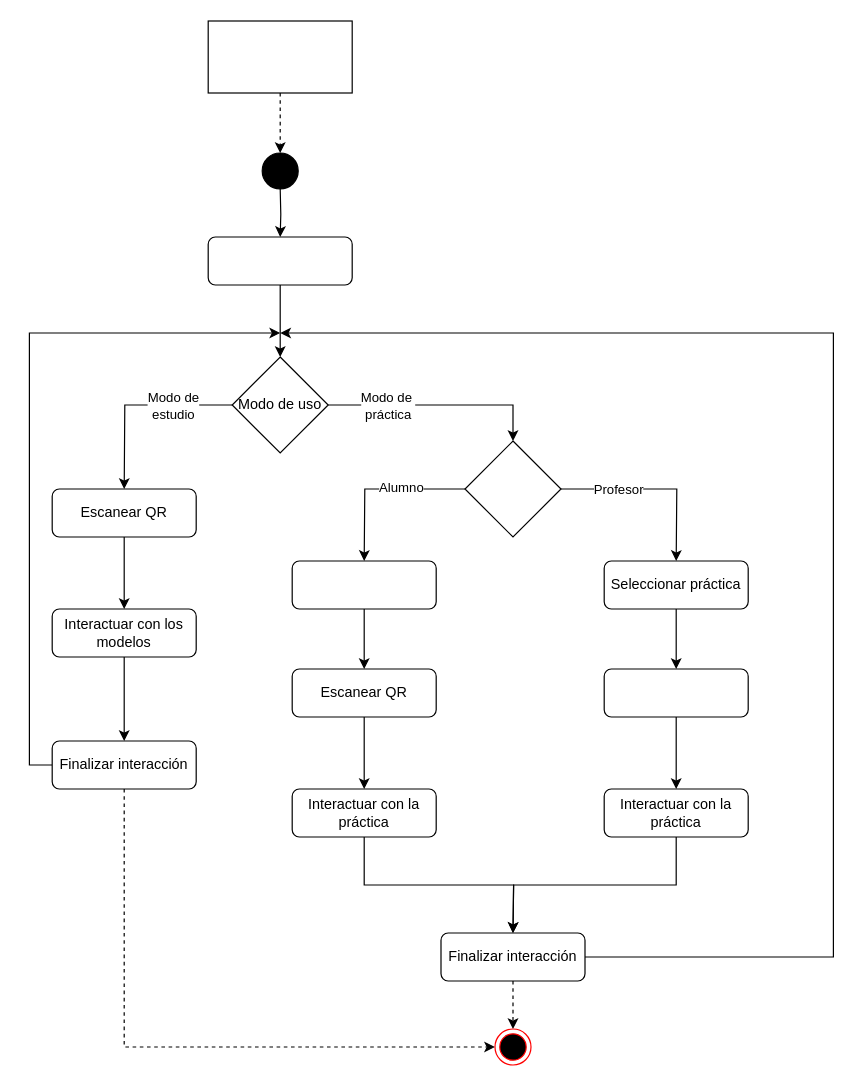
This 864x1086 diagram has some shape labels left out. Here are the shapes that lost their labels. From the top down, the centre of each, then its label:
At (x=279, y=56): "Conectar dspositivo de proyeccion de qr's a dispositivo movil".
At (x=279, y=260): "Ingresar a la aplicación".
At (x=512, y=488): "Tipo de usuario".
At (x=363, y=584): "Ingresar código de clase".
At (x=675, y=692): "Compartir código".
